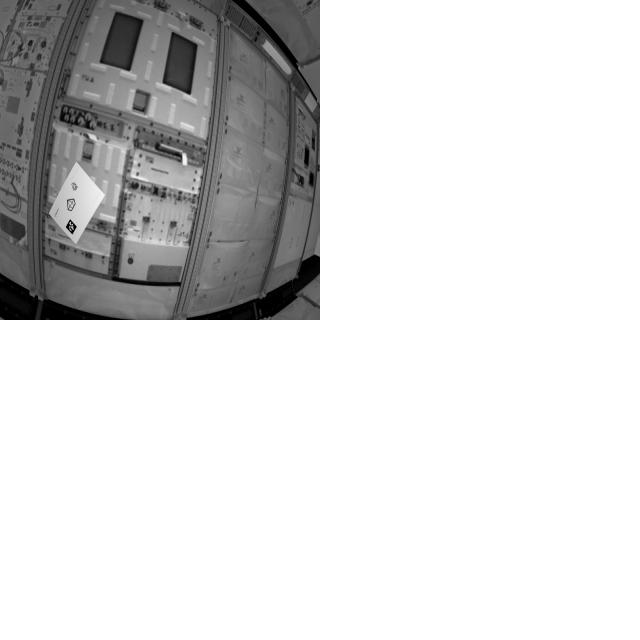coral: (71, 183, 82, 194)
diamond: (66, 197, 77, 213)
